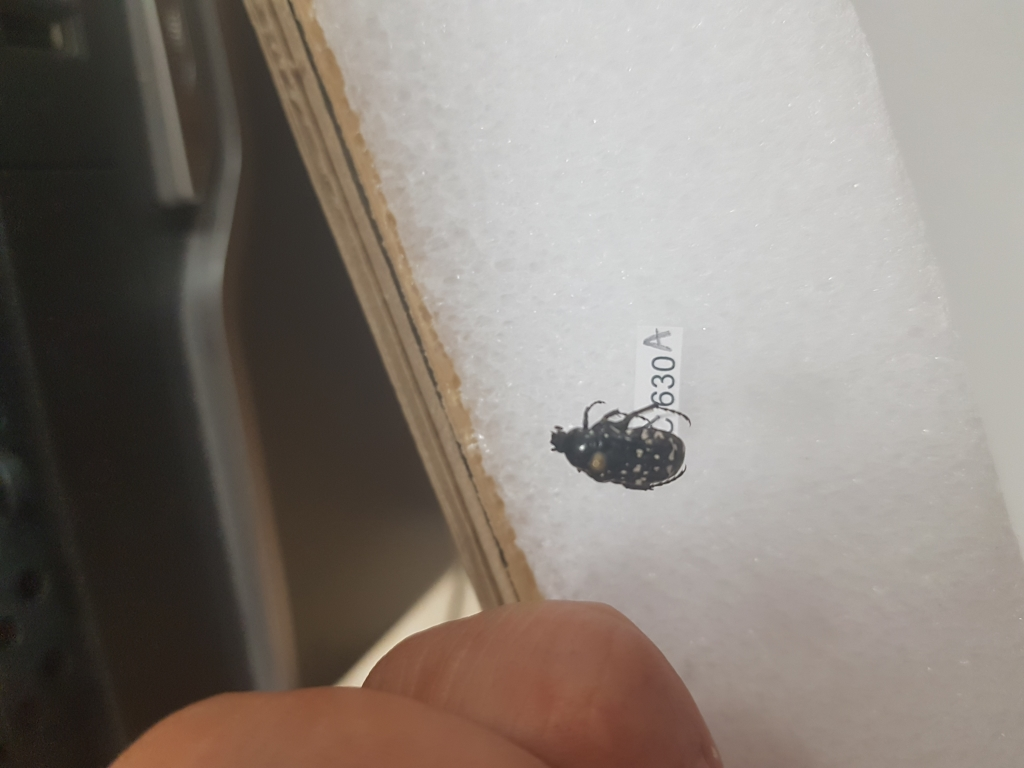Oxythyrea_albopicta: (545, 401, 689, 494)
